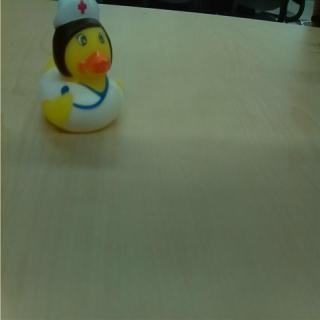duck_specialty: (39, 1, 127, 135)
